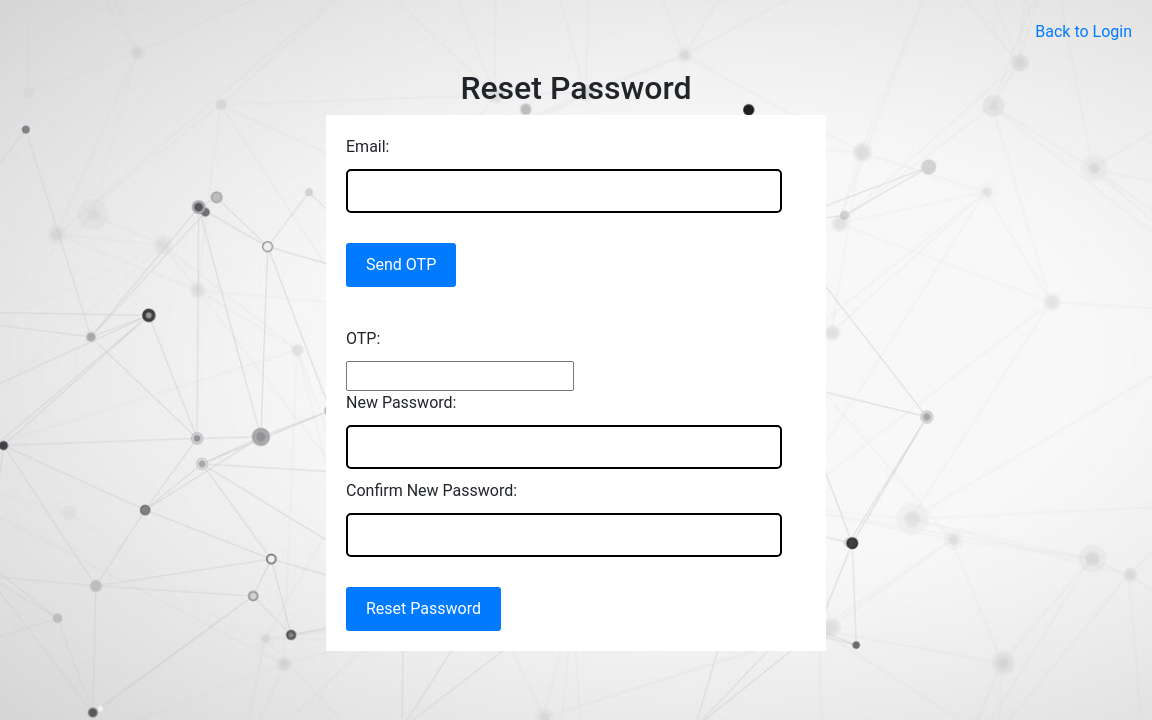
Test: ResetPasswordPage component › updates new password state correctly and validates password
Type "weakpassword" into the password field labelled "New Password:" at (564, 447), box [346, 425, 782, 469]
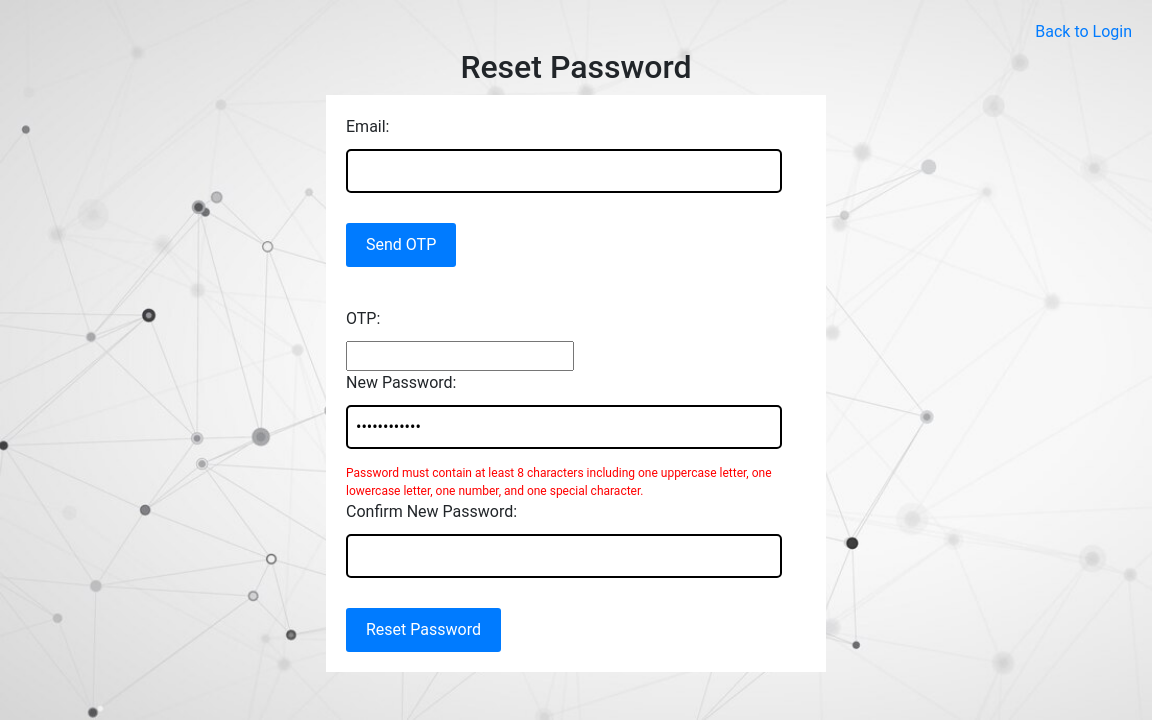
Expected: the text "Password must contain at least 8 characters including one uppercase letter, one lowercase letter, one number, and one sp" is shown, [346, 466, 772, 498]
